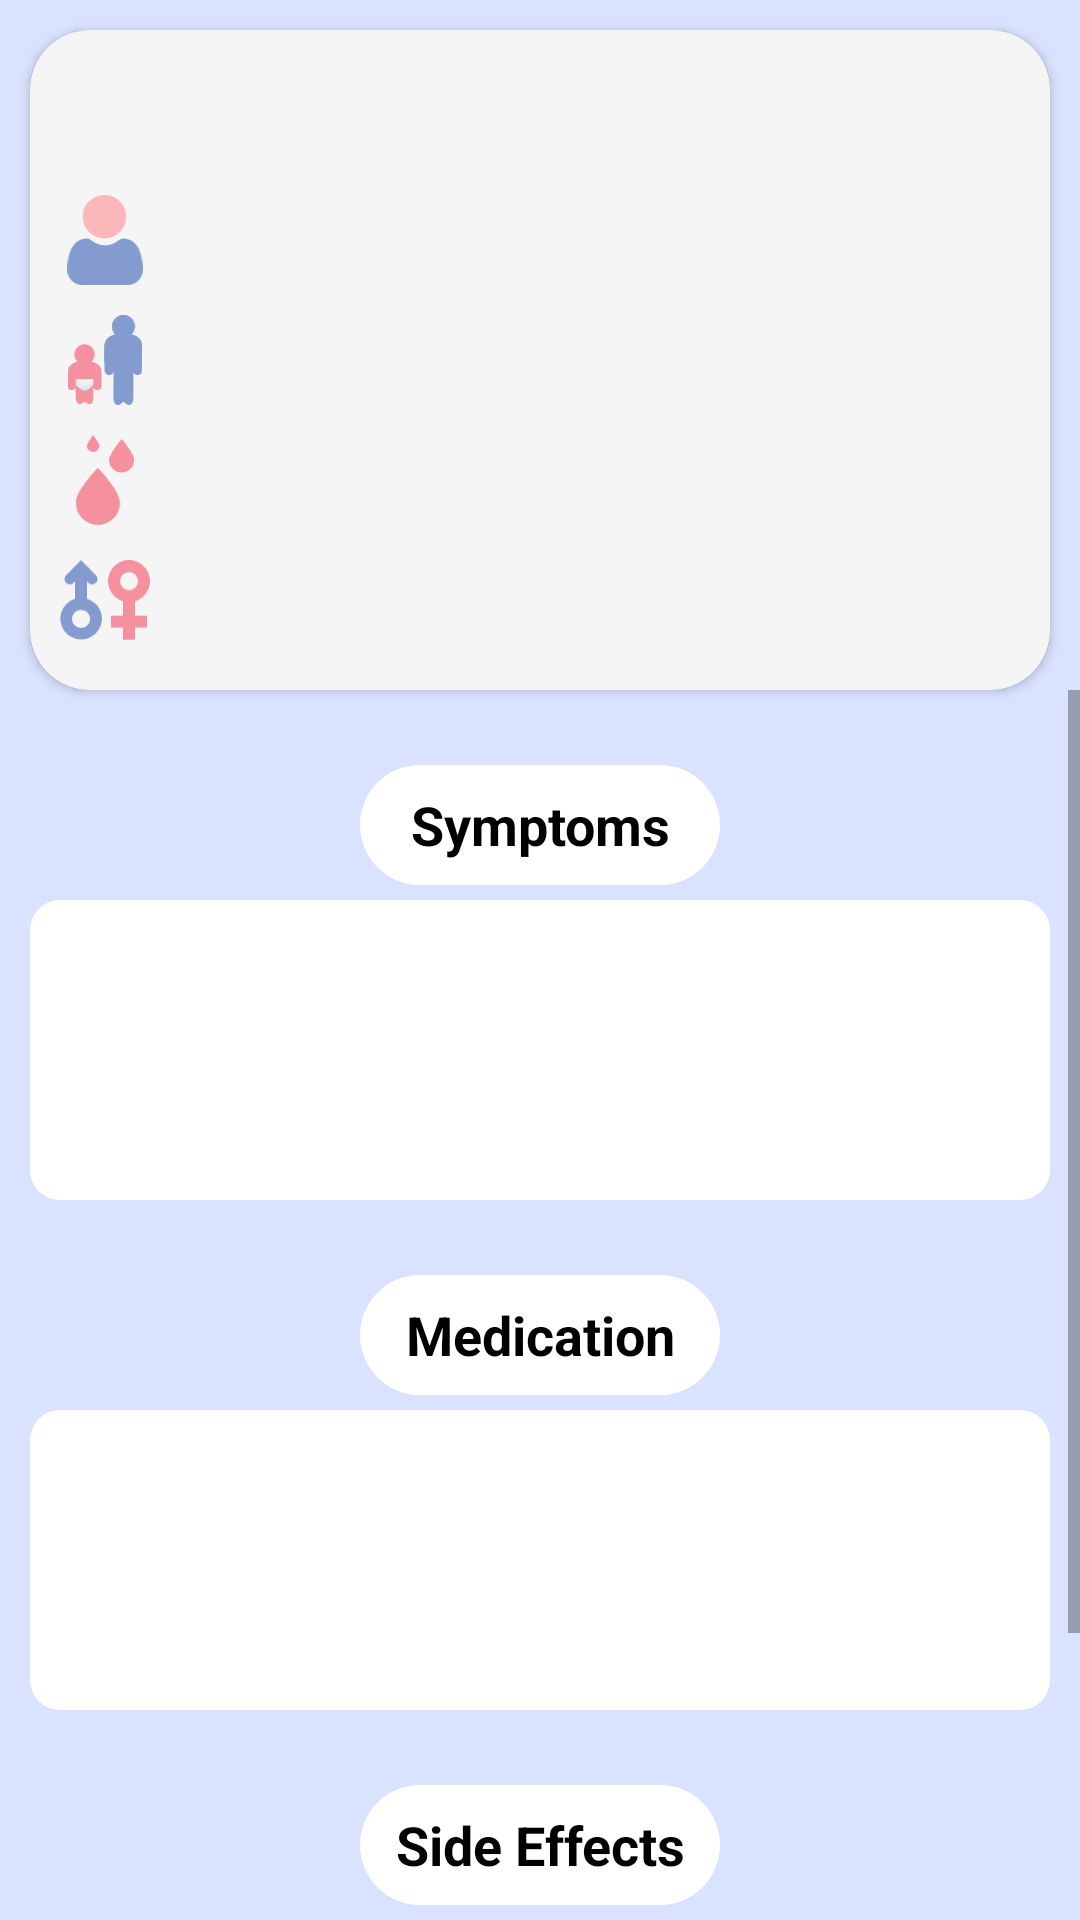

Where to tap for icons on this 1080 x 1920 app screen, as point (x, y):
nume: point (105, 240)
sange: point (105, 480)
sex: point (105, 600)
varsta: point (105, 360)
